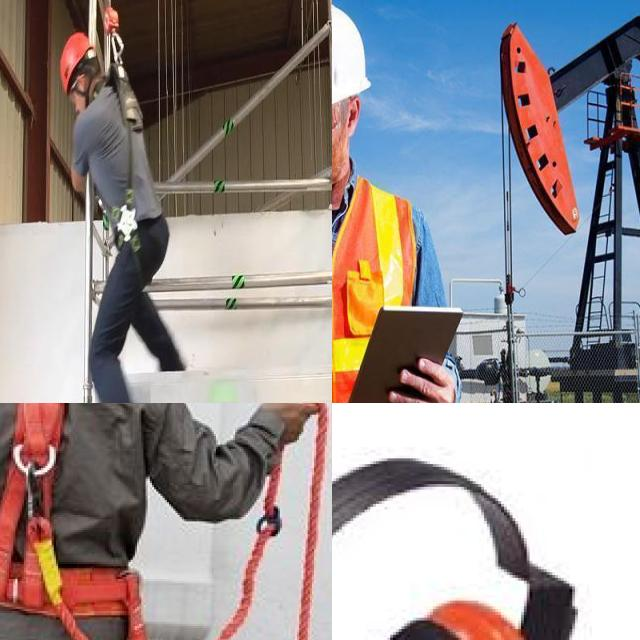Ear-protection: (332, 446, 588, 640)
Harness: (0, 403, 160, 640), (104, 6, 144, 242)
face_nomask: (332, 101, 353, 195)
hand_noglove: (390, 355, 454, 403)
head_helmet: (332, 0, 368, 113)
person: (332, 0, 450, 403)
vest: (332, 175, 450, 403)
